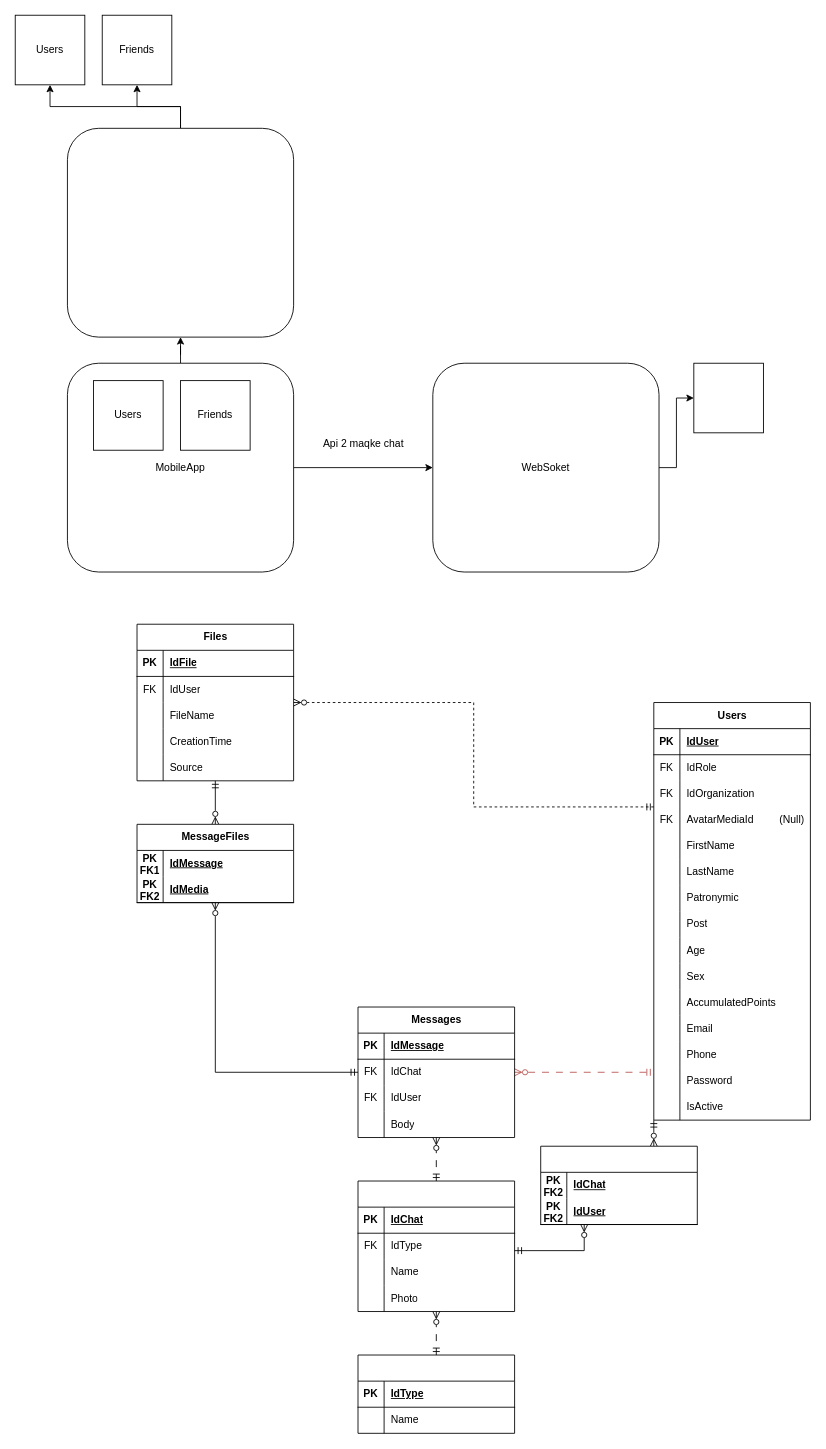
The diagram is 826 pixels wide and 1449 high, and some of its shapes have lost their labels. The shapes that lost their labels are listed below. From the top down, each one's box as (x1, y1, x2, y2) in pixels, then its label:
(67, 127, 294, 337): API
(693, 362, 763, 433): Chat
(540, 1145, 697, 1225): UsersCahts
(357, 1180, 515, 1312): Chats
(357, 1354, 515, 1433): ChatTypes
